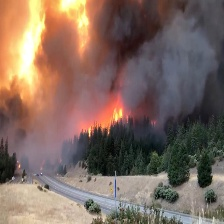fire: (85, 108, 124, 139)
smoke: (2, 2, 224, 127)
